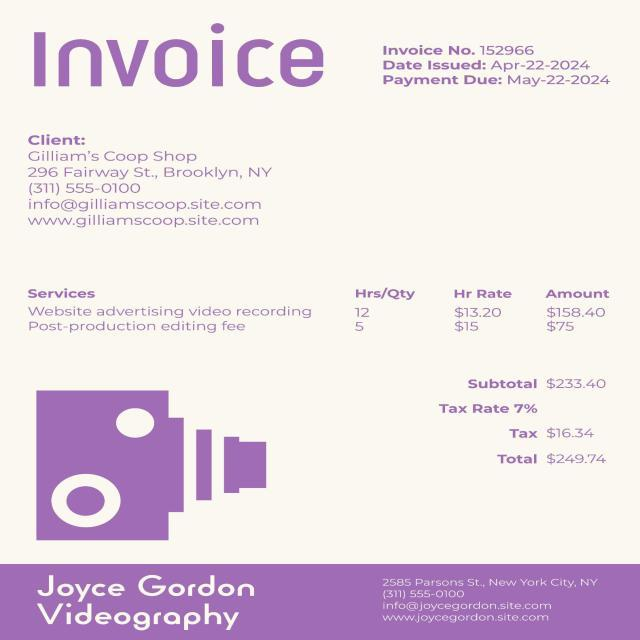ROI: (9, 278, 622, 338), (22, 124, 281, 238), (8, 15, 330, 94), (424, 368, 616, 471), (31, 566, 266, 637), (369, 568, 616, 635), (364, 35, 620, 90)
